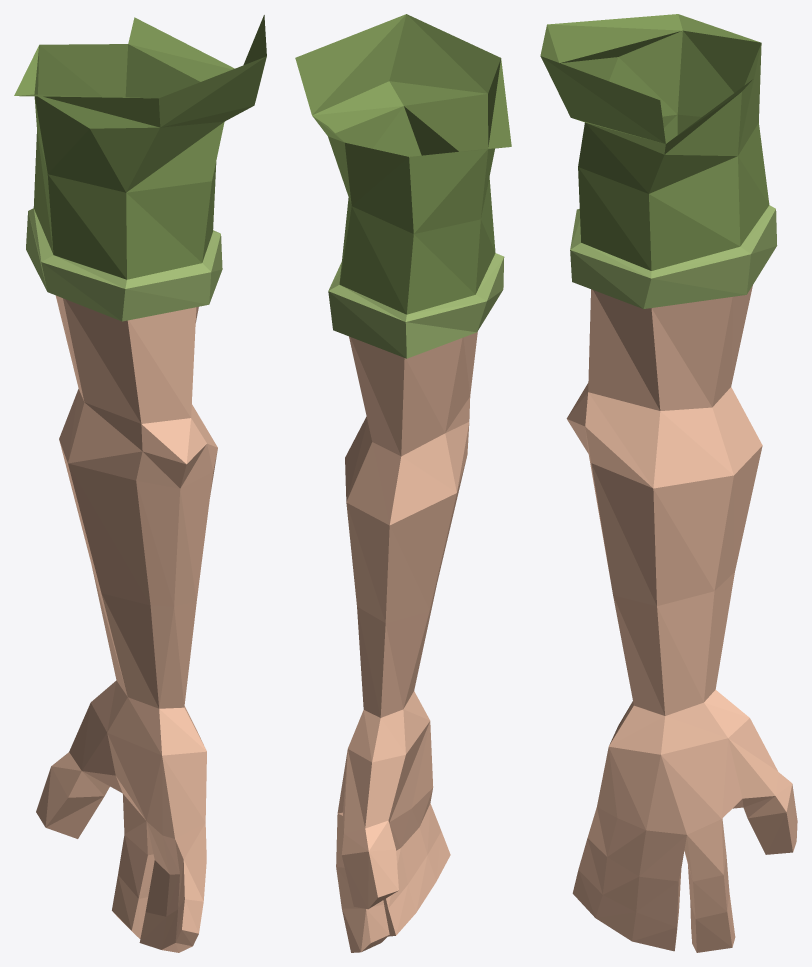
The model's file is ArmR.obj.
The picture shows the model from 3 angles, left to right: view 1: azimuth 30°, elevation 25°; view 2: azimuth 150°, elevation 25°; view 3: azimuth 270°, elevation 25°; orthographic projection. The views are drawn at different scales.
Bounding box in the file's own units: 0.2291 × 0.8441 × 0.215.
Materials: 1 (1 with a texture image).
